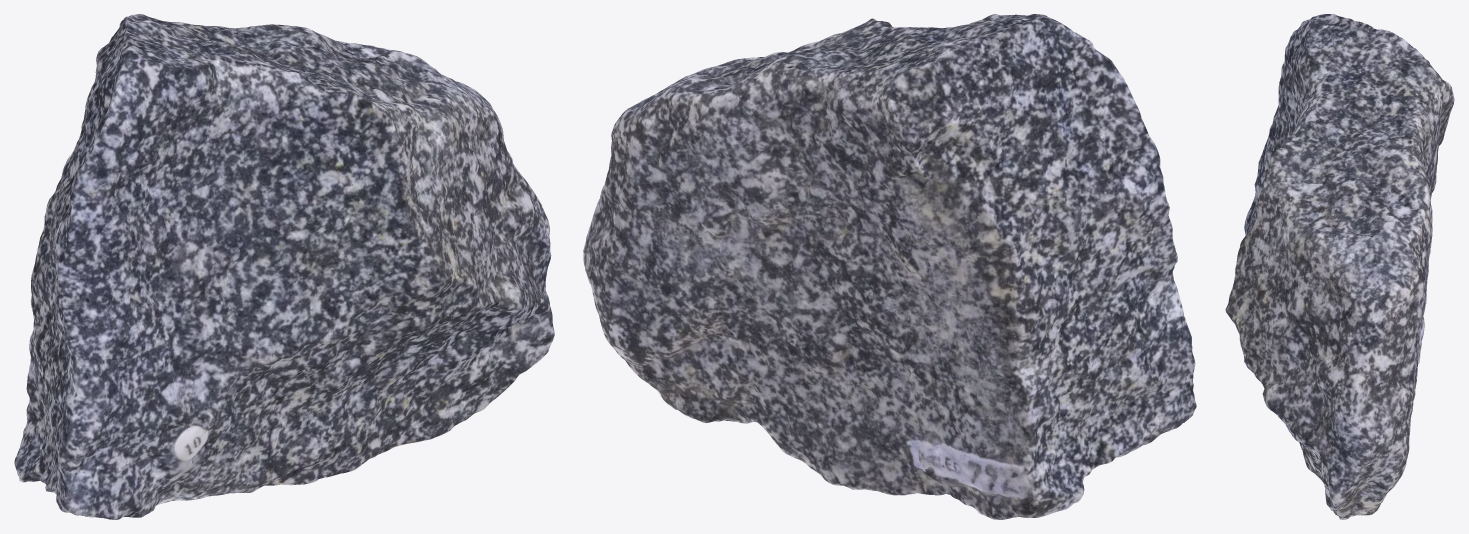
The model's file is diorite.glb.
The picture shows the model from 3 angles, left to right: view 1: azimuth 30°, elevation 25°; view 2: azimuth 150°, elevation 25°; view 3: azimuth 270°, elevation 25°; orthographic projection. The views are drawn at different scales.
Parts seen in each view (by area): view 1: Object_2; view 2: Object_2; view 3: Object_2.
Part boxes in pixels (bbox=[...]): Object_2: bbox=[14, 14, 554, 519]; Object_2: bbox=[583, 14, 1196, 519]; Object_2: bbox=[1225, 14, 1454, 519].
Size of the model in its own units: 2.03 by 1.7 by 0.9111.
Materials: 1 (1 with a texture image).
